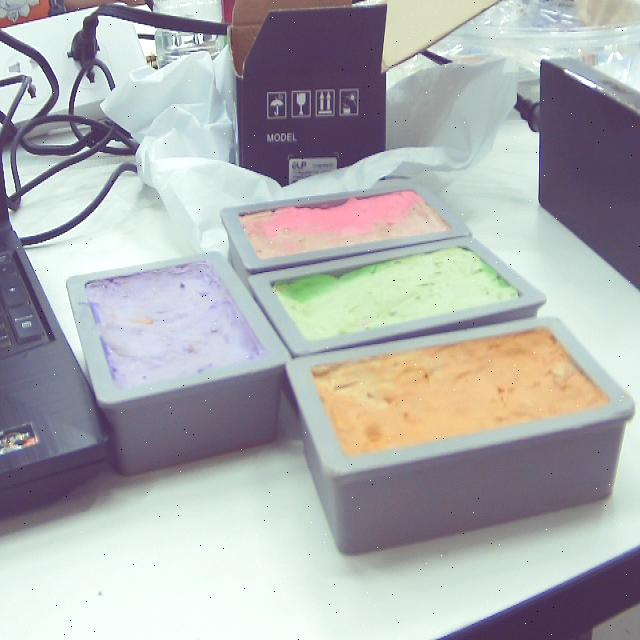block: (286, 313, 638, 553), (65, 251, 294, 475), (243, 235, 543, 360), (220, 183, 472, 276)
